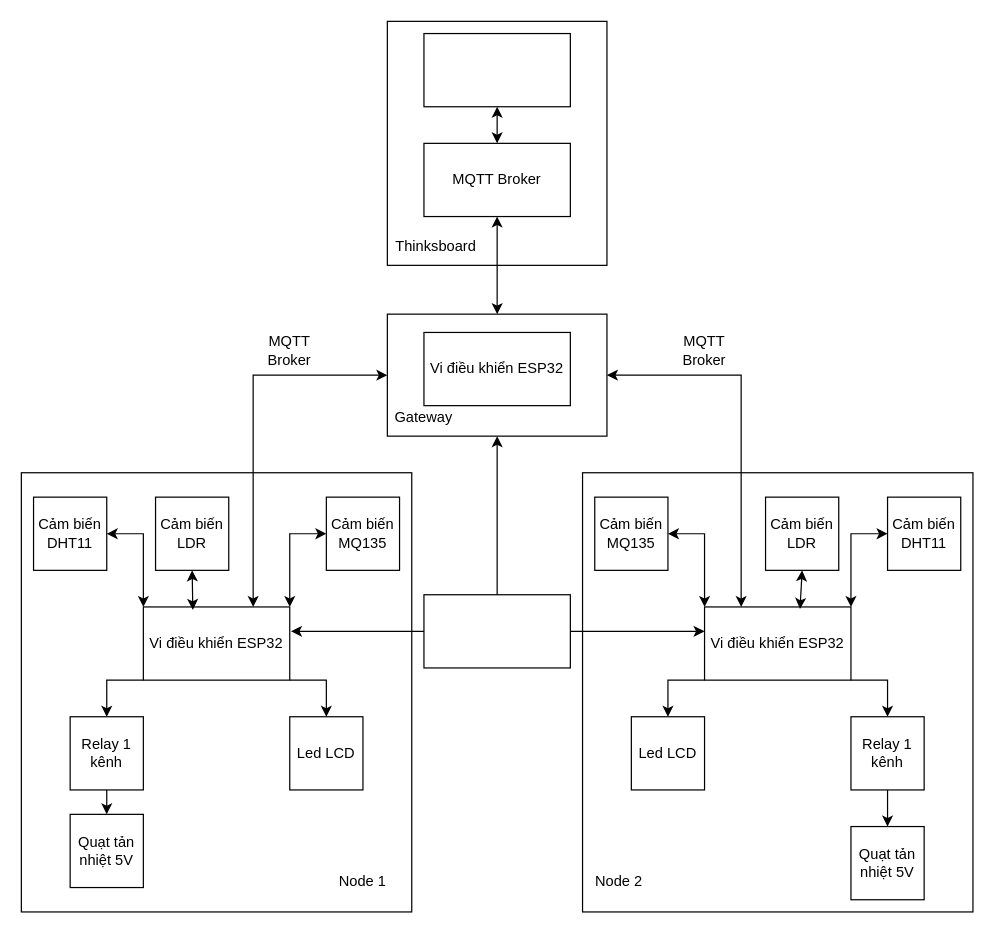
This 994x933 diagram has some shape labels left out. Here are the shapes that lost their labels. From the top down, the centre of each, then its label:
At (x=496, y=69): "DashBoard".
At (x=496, y=631): "Khối nguồn".
